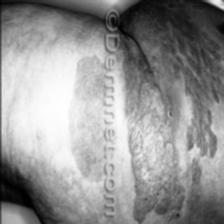Potentially Malignant Skin Tumors: (125, 27, 219, 224), (66, 51, 102, 200)
